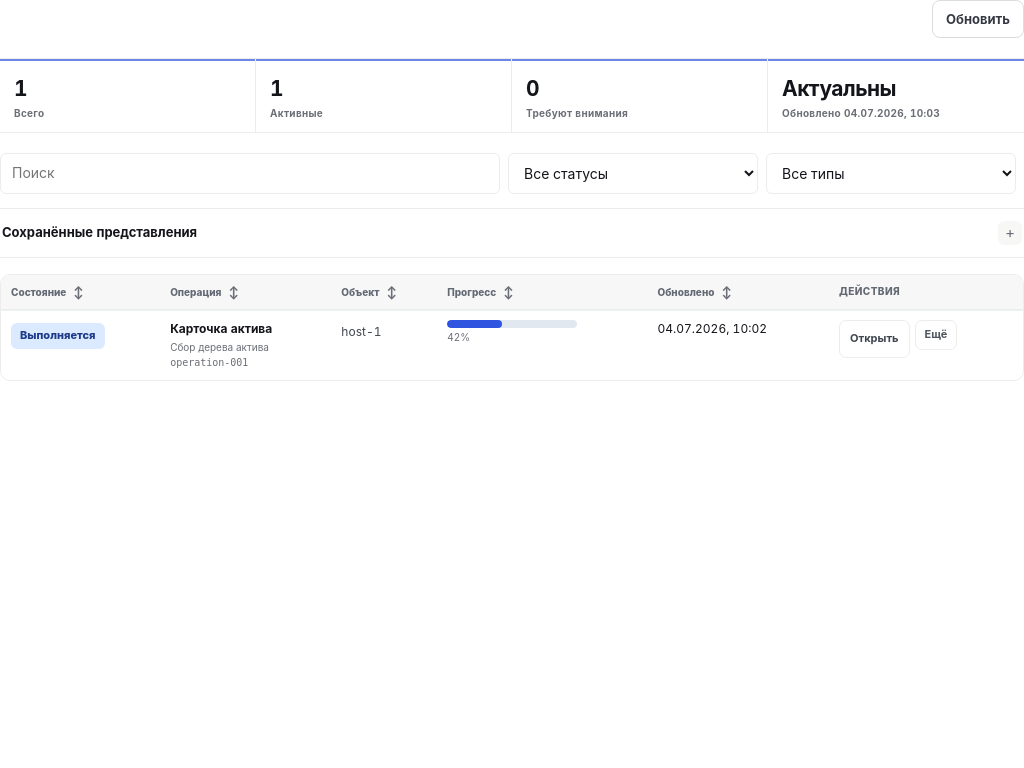
Test: Operation diagnostics and detail recovery › keeps the last detail and shows polling errors until a successful refresh
The image size is (1024, 768).
Step 1. Click the button "Открыть" → (874, 339), box top-left (839, 320), bottom-right (910, 358)
Wait 2000 ms
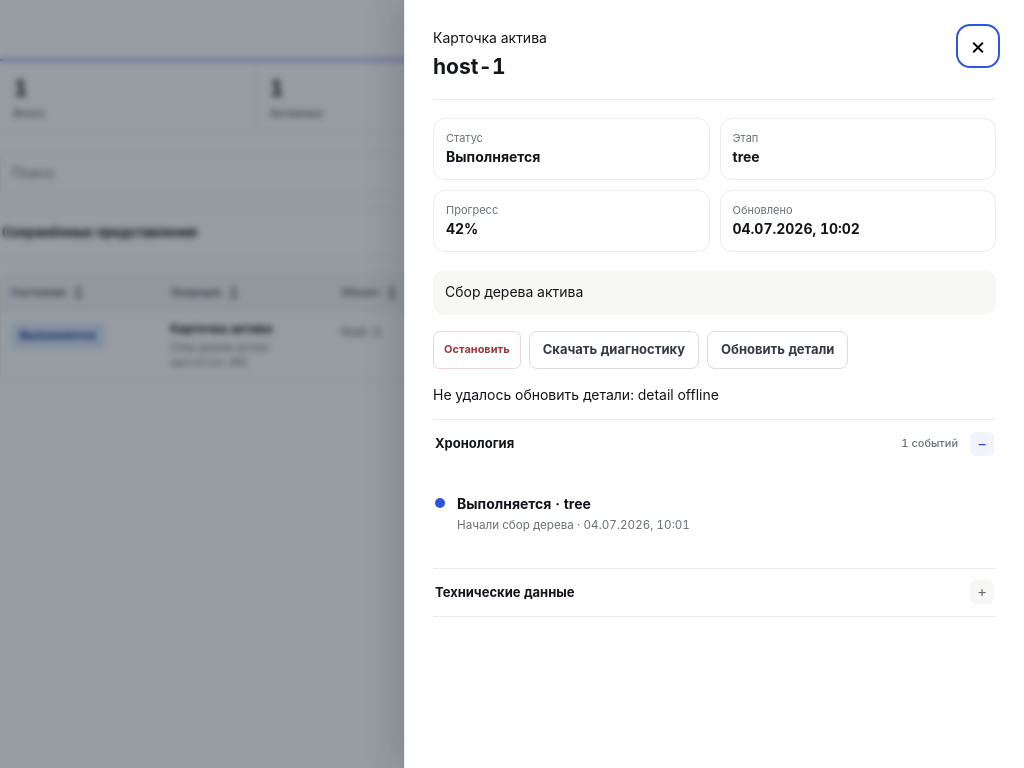
Now the message shows "detail offline", box top-left (638, 386), bottom-right (719, 402)
Now the text "Сбор дерева актива" is shown, box top-left (433, 270), bottom-right (996, 314)
Step 2. Click the button "Обновить детали" → (778, 350), box top-left (707, 330), bottom-right (848, 368)
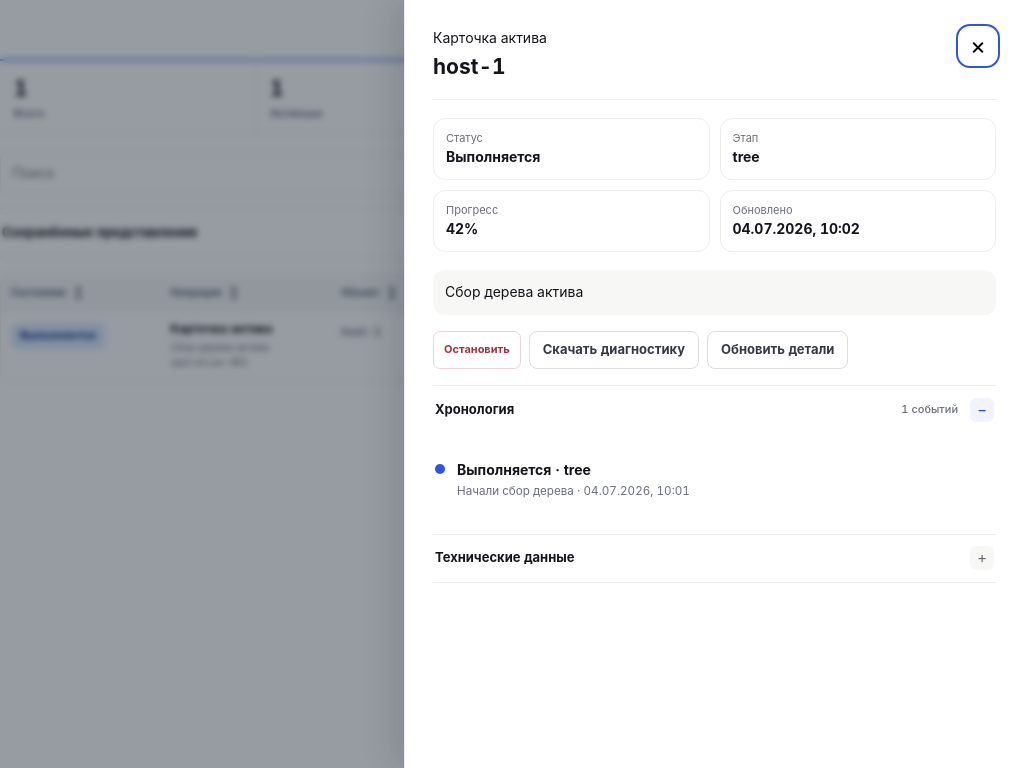
Now the message "Не удалось обновить детали: detail offline" is gone
